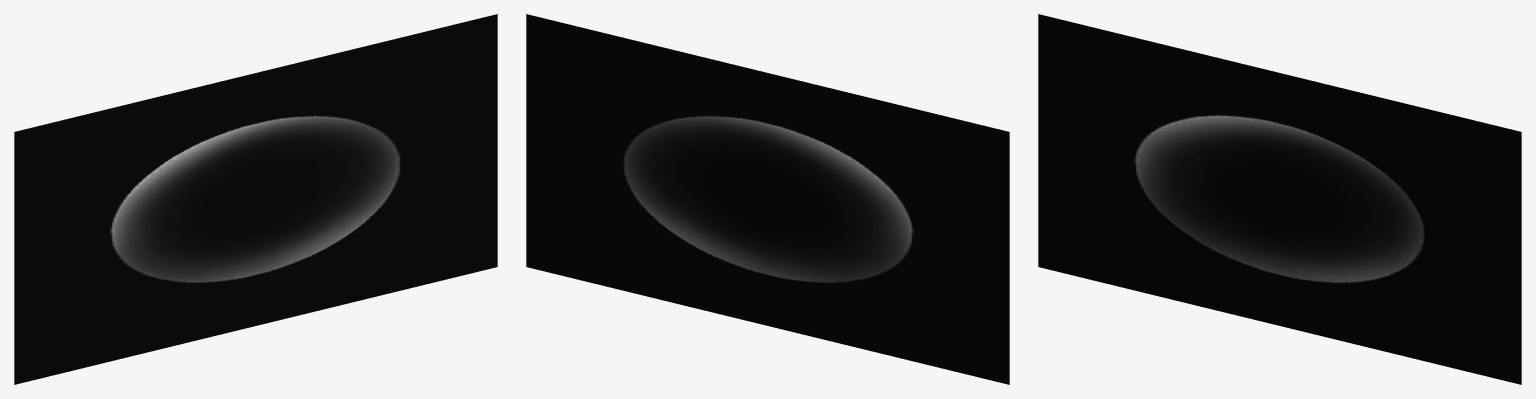
File: 0219_baoqi_M.glb
3 views of the same model, side by side, from view 1: azimuth 30°, elevation 25°; view 2: azimuth 150°, elevation 25°; view 3: azimuth 330°, elevation 25° (orthographic).
Size of the model in its own units: 2.2 by 1.1 by 0.
Materials: 1 (1 with a texture image).
